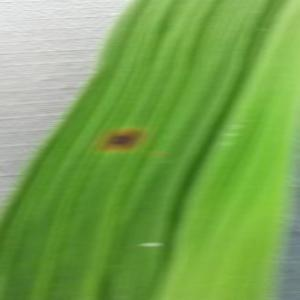Brown_Spot: (90, 112, 151, 166), (131, 231, 169, 256)
